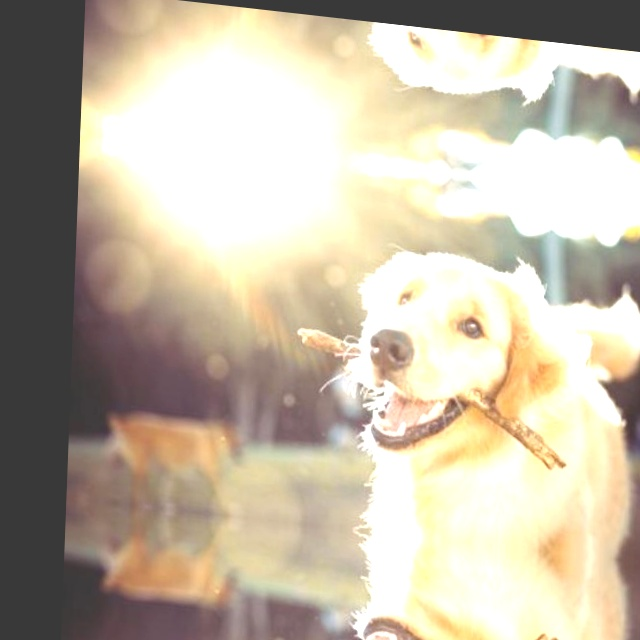dog: (313, 225, 542, 468), (327, 17, 550, 118), (305, 606, 527, 640)
